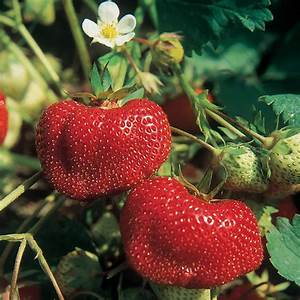Fresa: (113, 164, 266, 294), (27, 87, 178, 207)
